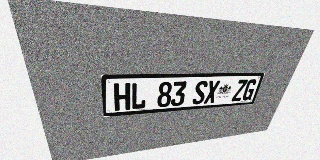3: (170, 81, 187, 106)
8: (157, 82, 173, 107)
G: (241, 79, 258, 101)
H: (113, 83, 130, 111)
L: (131, 82, 147, 110)
S: (191, 80, 208, 105)
X: (203, 80, 220, 104)
Z: (231, 79, 248, 101)
